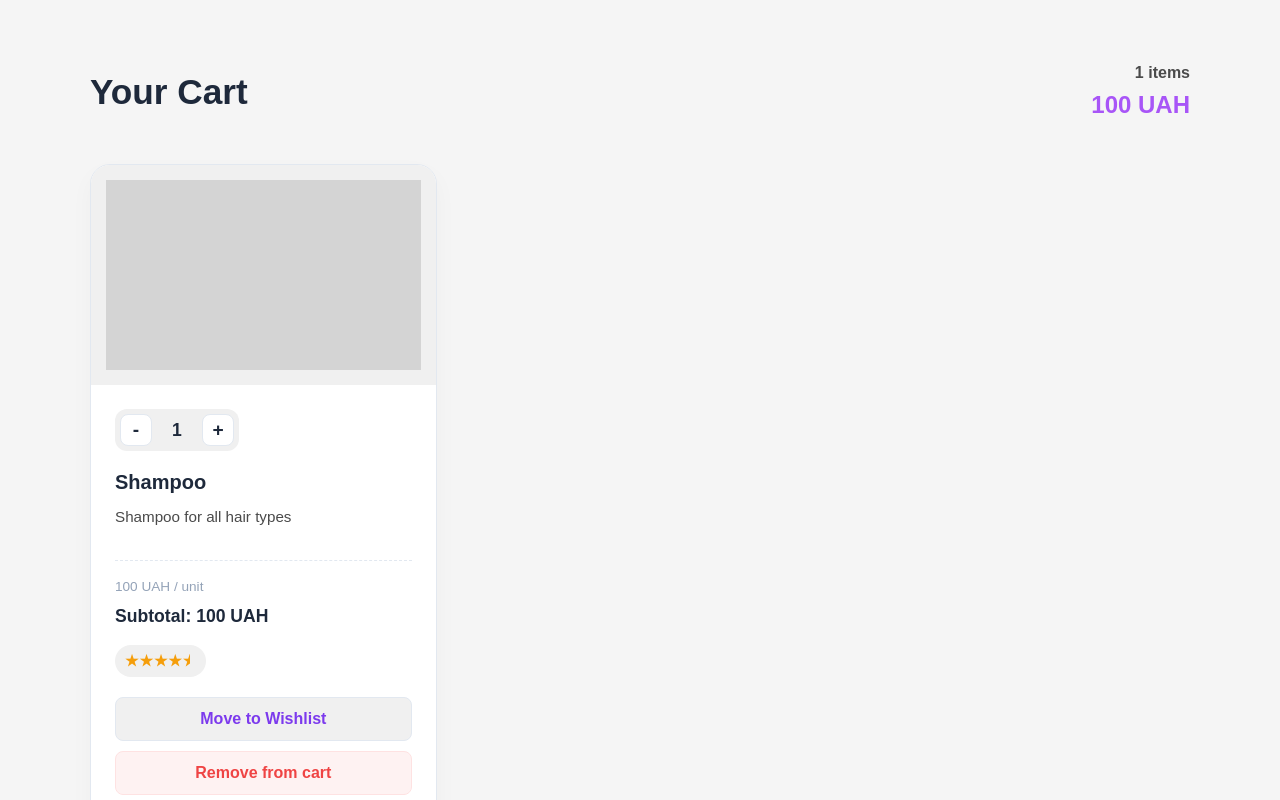
Test: Cart › increments quantity when clicking +
Step 1. Click the button "+" → x=218, y=430, box [202,414,234,446]
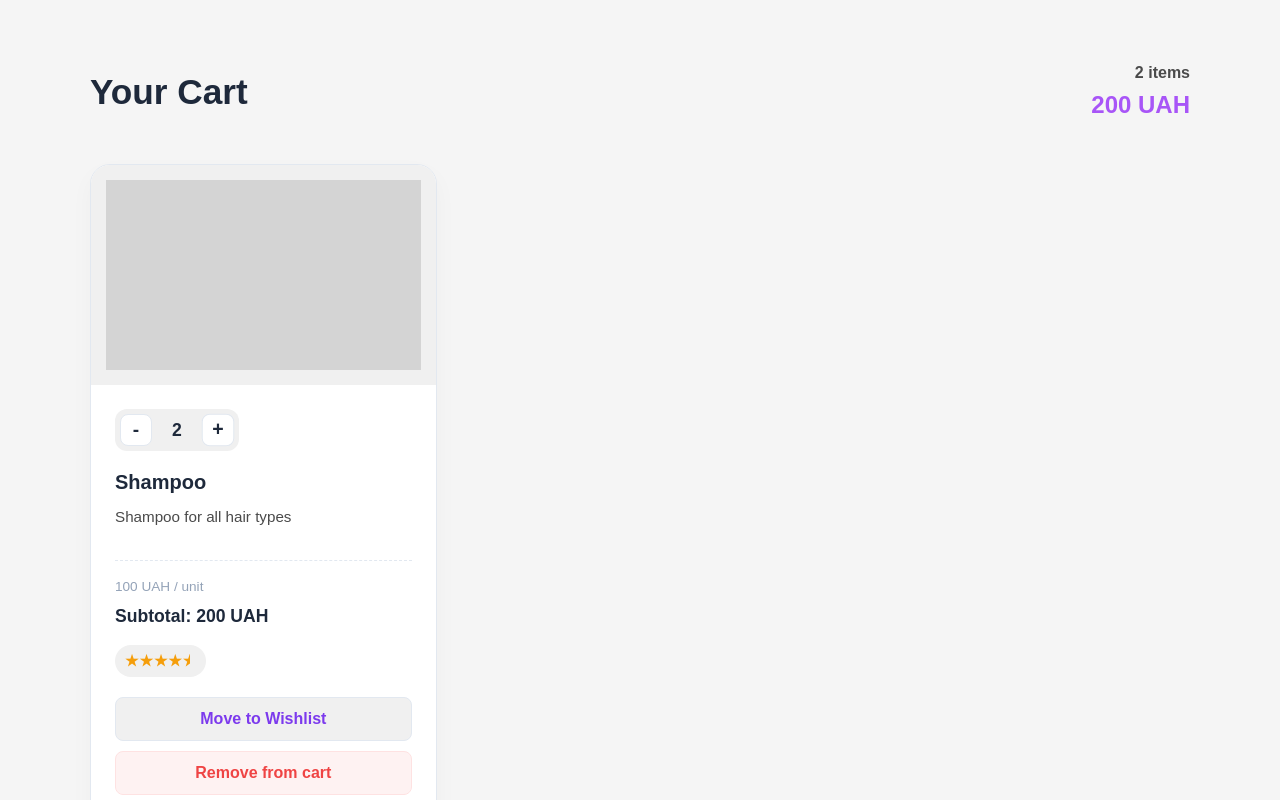
Check: the text "2" is shown, box [172,420,182,440]
Check: the text "Subtotal: 200 UAH" is shown, box [115,606,268,626]
